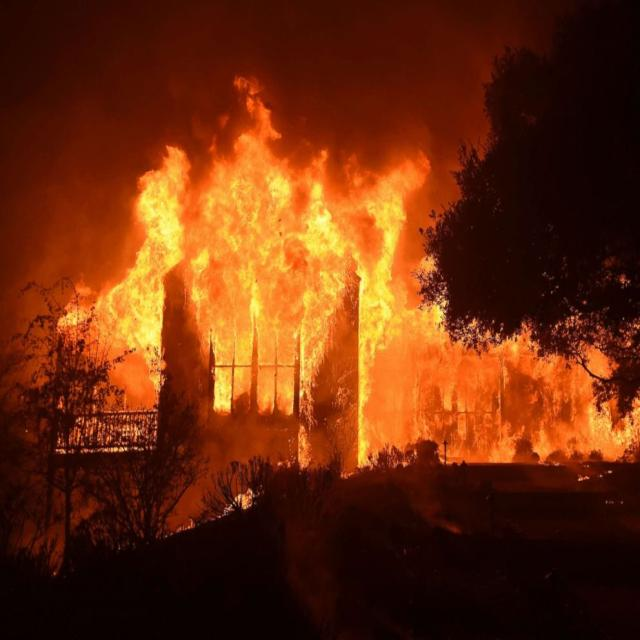fire: (142, 178, 388, 333)
